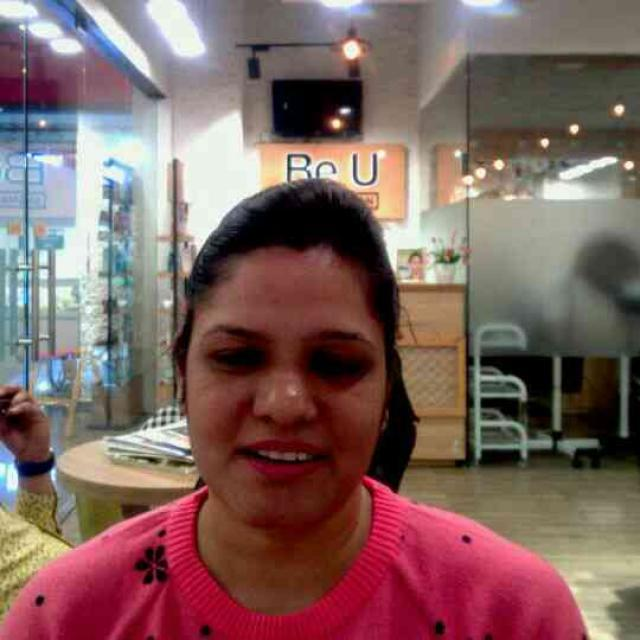Puffy Eyes - v3 Dark Circle: (304, 373, 359, 392)
